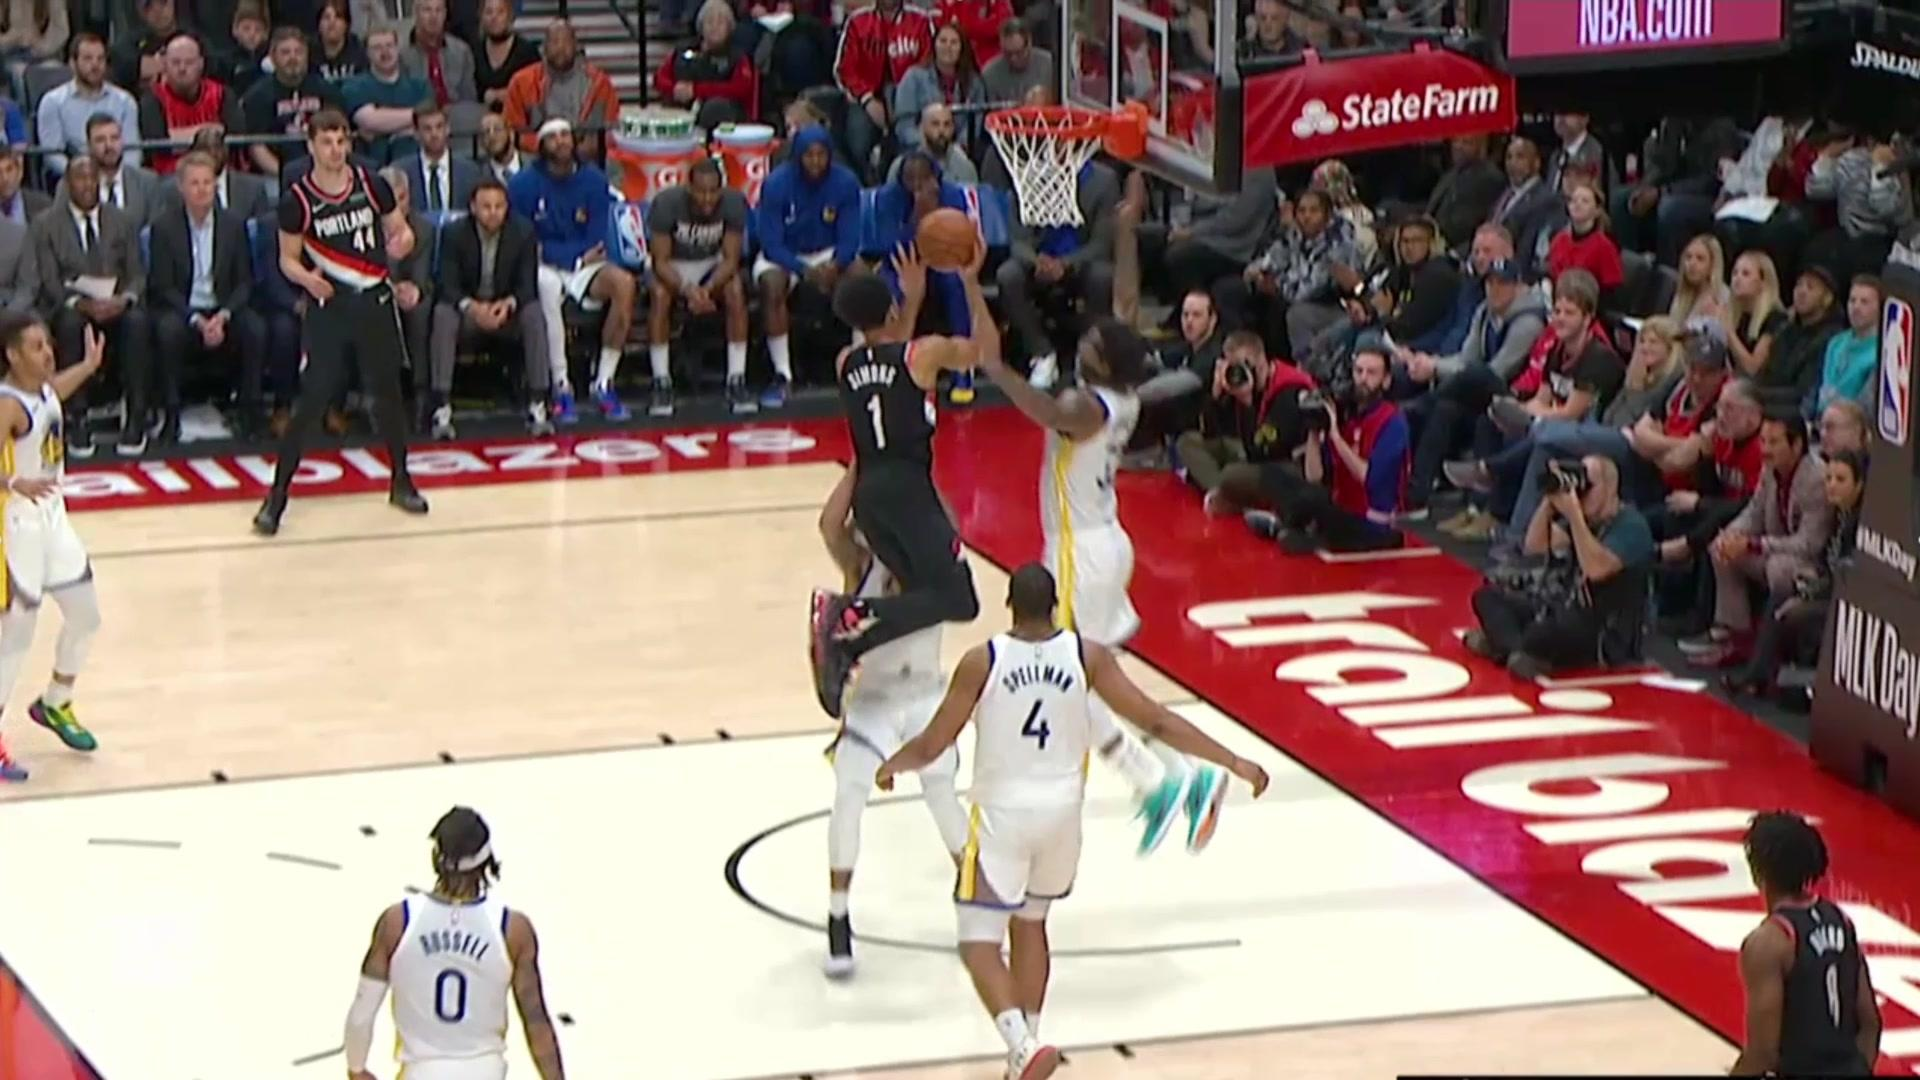foul: (807, 307, 952, 901)
